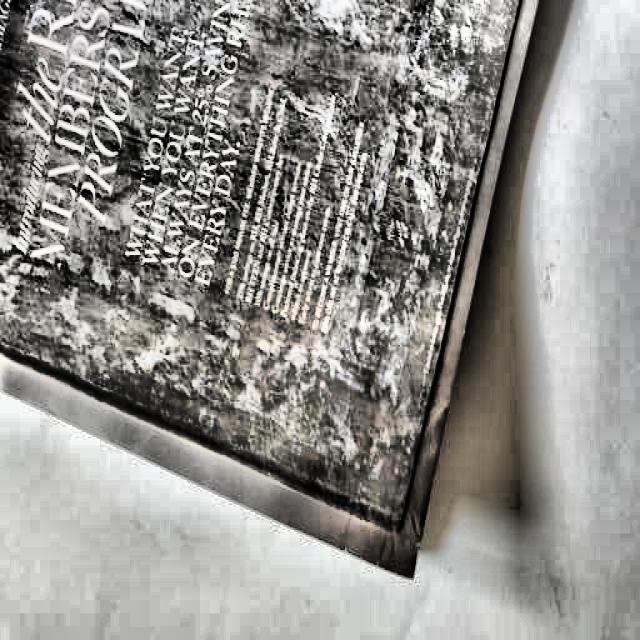paper: (0, 0, 527, 575)
